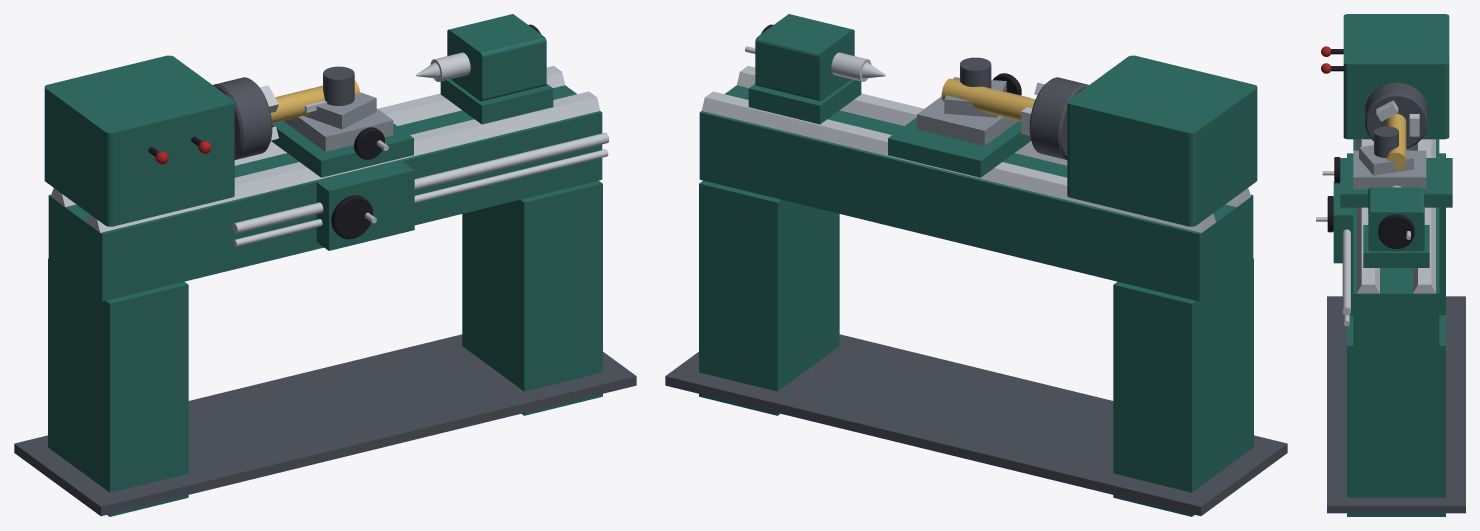
The model's file is lathe.glb.
The picture shows the model from 3 angles, left to right: view 1: azimuth 30°, elevation 25°; view 2: azimuth 150°, elevation 25°; view 3: azimuth 270°, elevation 25°; orthographic projection. The views are drawn at different scales.
Visible parts, largest first — view 1: chip_tray, bed, leg_0, headstock, leg_1, tailstock_body, way_0, apron, leadscrew, saddle, chuck_body, tailstock_base (+9 smaller); view 2: bed, chip_tray, leg_0, headstock, leg_1, tailstock_body, way_1, saddle, chuck_body, tailstock_base, way_0, cross_slide (+4 smaller); view 3: leg_1, headstock, chip_tray, bed, tailstock_body, saddle, chuck_body, cross_slide, tailstock_base, way_1, way_0, apron (+9 smaller).
Part boxes in pixels (x1,y1,x2,y2): chip_tray: [14, 334, 636, 516]; bed: [48, 85, 602, 301]; leg_0: [48, 258, 188, 516]; headstock: [44, 55, 234, 226]; leg_1: [462, 180, 602, 415]; tailstock_body: [447, 14, 546, 101]; way_0: [86, 91, 600, 232]; apron: [316, 161, 414, 250]; leadscrew: [232, 132, 609, 233]; saddle: [271, 121, 413, 177]; chuck_body: [213, 77, 272, 159]; tailstock_base: [440, 79, 553, 124]; bed: [699, 85, 1253, 301]; chip_tray: [665, 334, 1287, 516]; leg_0: [1113, 258, 1253, 516]; headstock: [1067, 55, 1257, 226]; leg_1: [699, 180, 839, 415]; tailstock_body: [755, 14, 854, 101]; way_1: [701, 91, 1215, 232]; saddle: [888, 117, 1030, 177]; chuck_body: [1029, 77, 1088, 159]; tailstock_base: [748, 79, 861, 124]; way_0: [737, 65, 1250, 207]; cross_slide: [917, 92, 1029, 145]; leg_1: [1347, 315, 1445, 516]; headstock: [1343, 14, 1449, 139]; chip_tray: [1327, 296, 1465, 513]; bed: [1353, 139, 1439, 347]; tailstock_body: [1368, 187, 1424, 251]; saddle: [1340, 158, 1452, 207]; chuck_body: [1365, 82, 1427, 148]; cross_slide: [1353, 150, 1426, 189]; tailstock_base: [1363, 225, 1429, 267]; way_1: [1413, 139, 1435, 293]; way_0: [1356, 139, 1379, 293]; apron: [1333, 182, 1353, 263].
Bounding box in the file's own units: 1500 × 1030 × 453.
